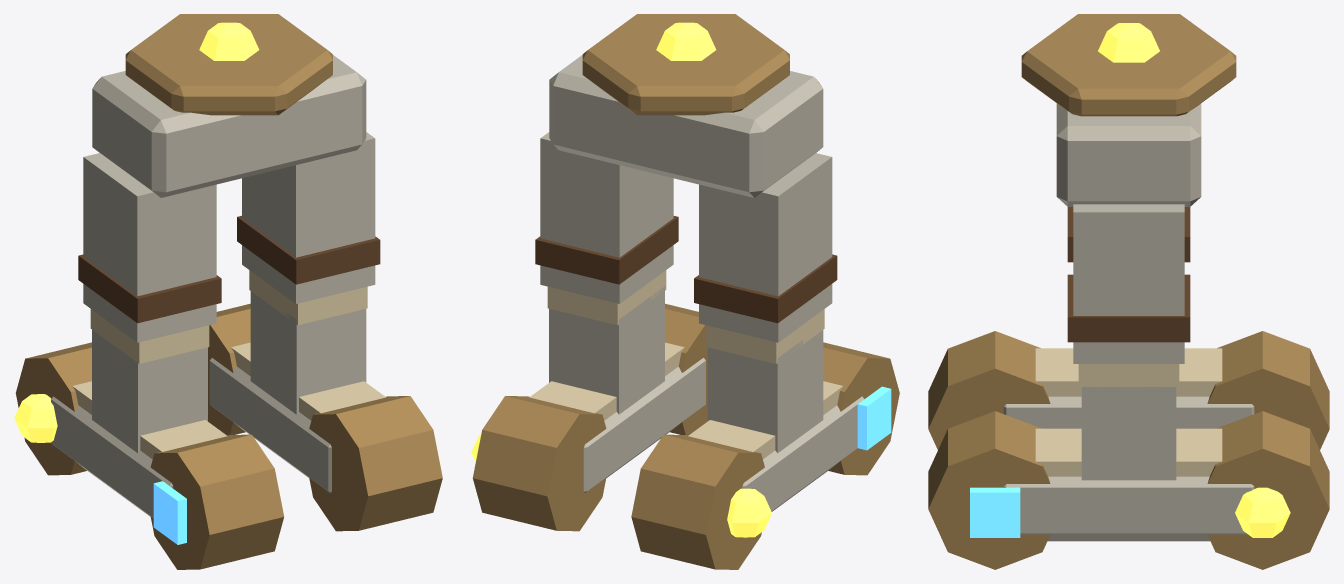
The model's file is legs_tread.glb.
The picture shows the model from 3 angles, left to right: view 1: azimuth 30°, elevation 25°; view 2: azimuth 150°, elevation 25°; view 3: azimuth 270°, elevation 25°; orthographic projection. The views are drawn at different scales.
Visible parts, largest first — view 1: legs_tread; view 2: legs_tread; view 3: legs_tread.
Boxes of the visible parts, box(x1,y1,x2,y2) form: legs_tread: box(14, 14, 442, 569); legs_tread: box(471, 14, 899, 569); legs_tread: box(928, 14, 1329, 569).
Size of the model in its own units: 0.6166 by 0.966 by 0.72.
1 material, 1 textured.
